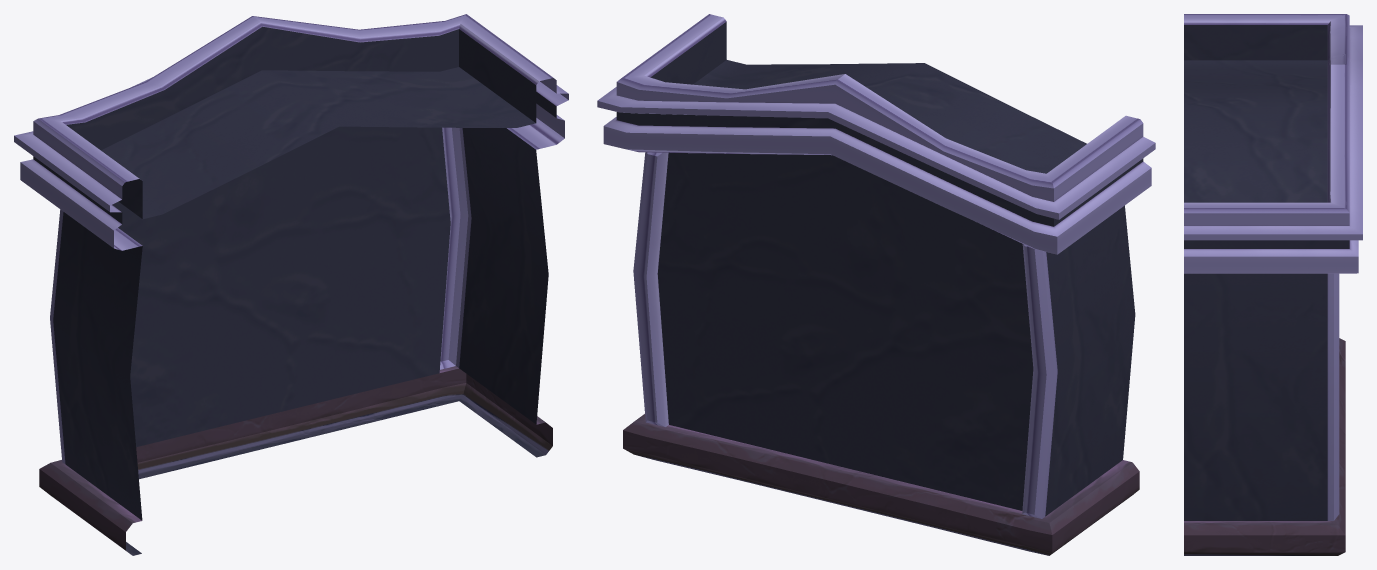
The model's file is MOD_WallCabinet.fbx.
The picture shows the model from 3 angles, left to right: view 1: azimuth 30°, elevation 25°; view 2: azimuth 150°, elevation 25°; view 3: azimuth 270°, elevation 25°; orthographic projection. The views are drawn at different scales.
Visible parts, largest first — view 1: MOD_WallCabinet; view 2: MOD_WallCabinet; view 3: MOD_WallCabinet.
Boxes of the visible parts, bbox=[...] form: MOD_WallCabinet: bbox=[14, 14, 568, 555]; MOD_WallCabinet: bbox=[597, 14, 1155, 555]; MOD_WallCabinet: bbox=[1184, 14, 1362, 555].
Size of the model in its own units: 116 by 103 by 42.16.
1 material, 1 textured.
